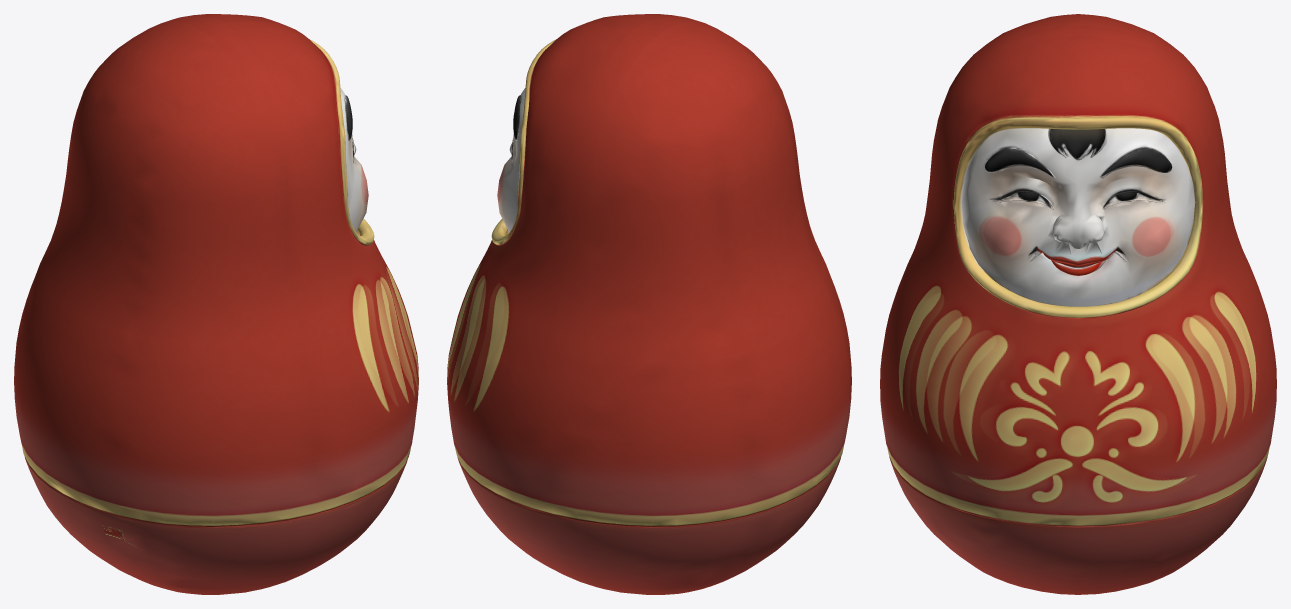
The picture shows the model from 3 angles, left to right: view 1: azimuth 30°, elevation 25°; view 2: azimuth 150°, elevation 25°; view 3: azimuth 270°, elevation 25°; orthographic projection.
Parts seen in each view (by area): view 1: tripo_node_15c68073; view 2: tripo_node_15c68073; view 3: tripo_node_15c68073.
Boxes of the visible parts, box(x1,y1,x2,y2) form: tripo_node_15c68073: box(14, 14, 418, 594); tripo_node_15c68073: box(447, 14, 851, 594); tripo_node_15c68073: box(880, 14, 1276, 594).
Bounding box in the file's own units: 0.6655 × 0.9995 × 0.6597.
1 material, 1 textured.
